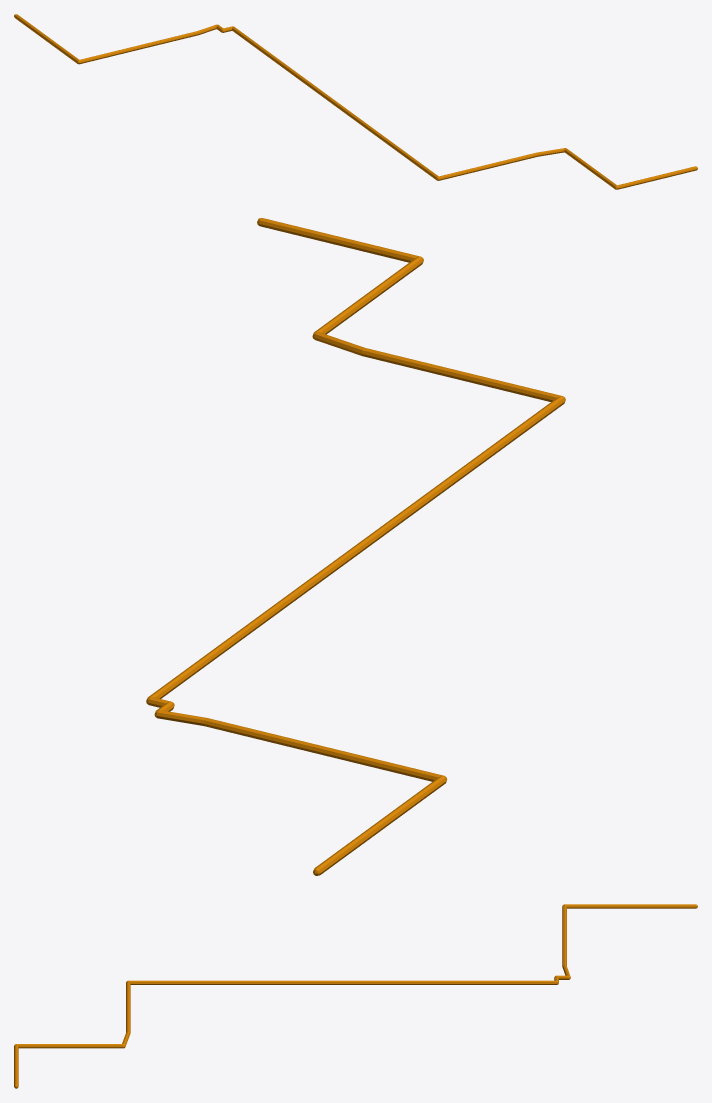
The picture shows the model from 3 angles, top to bottom: view 1: azimuth 30°, elevation 25°; view 2: azimuth 150°, elevation 25°; view 3: azimuth 270°, elevation 25°; orthographic projection. The views are drawn at different scales.
Bounding box in the file's own units: 1809 × 20 × 2874.
